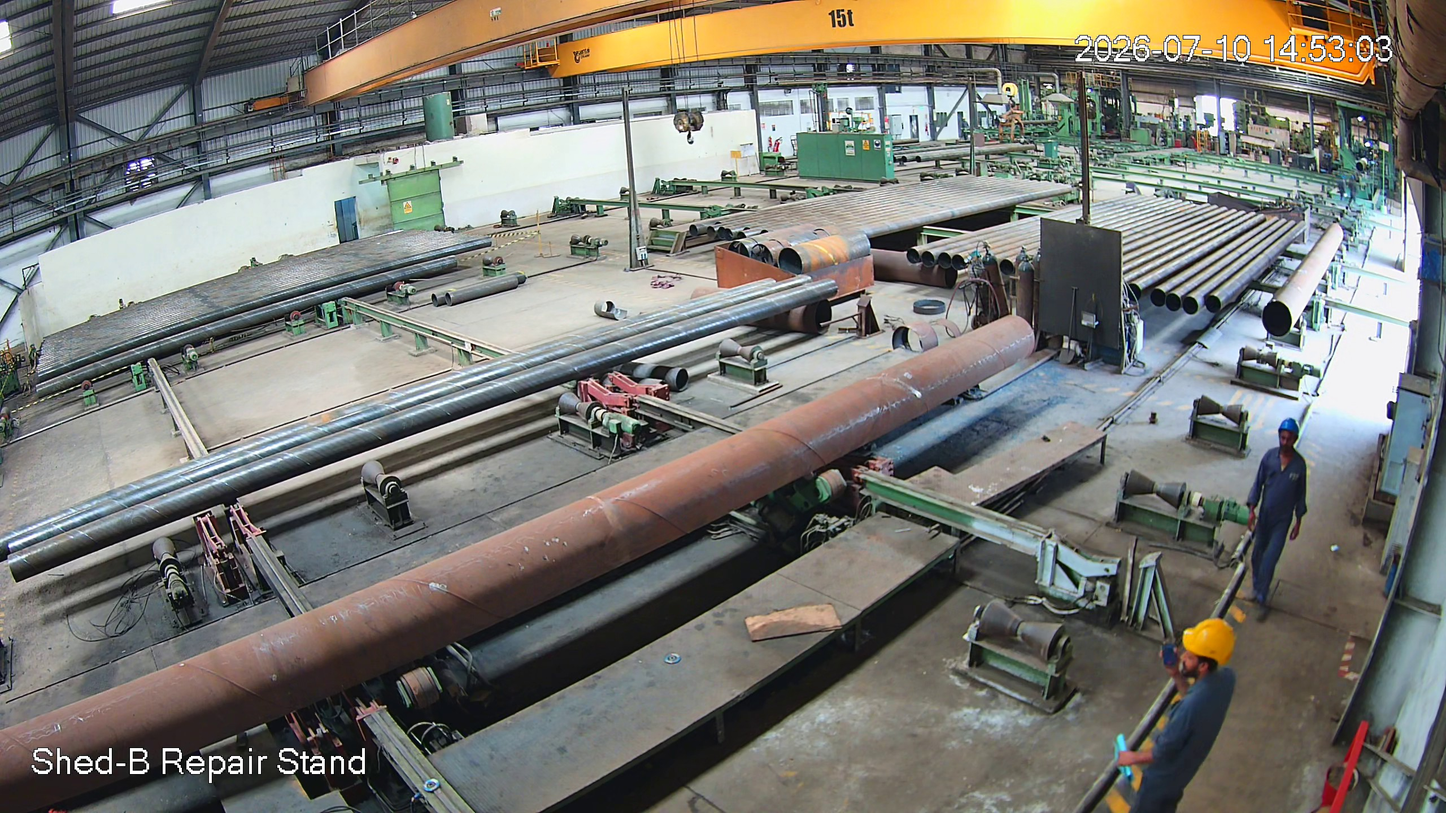Helmet: (1161, 607, 1255, 715), (1265, 406, 1310, 466)
Person: (1094, 613, 1255, 813), (1241, 412, 1317, 620)
